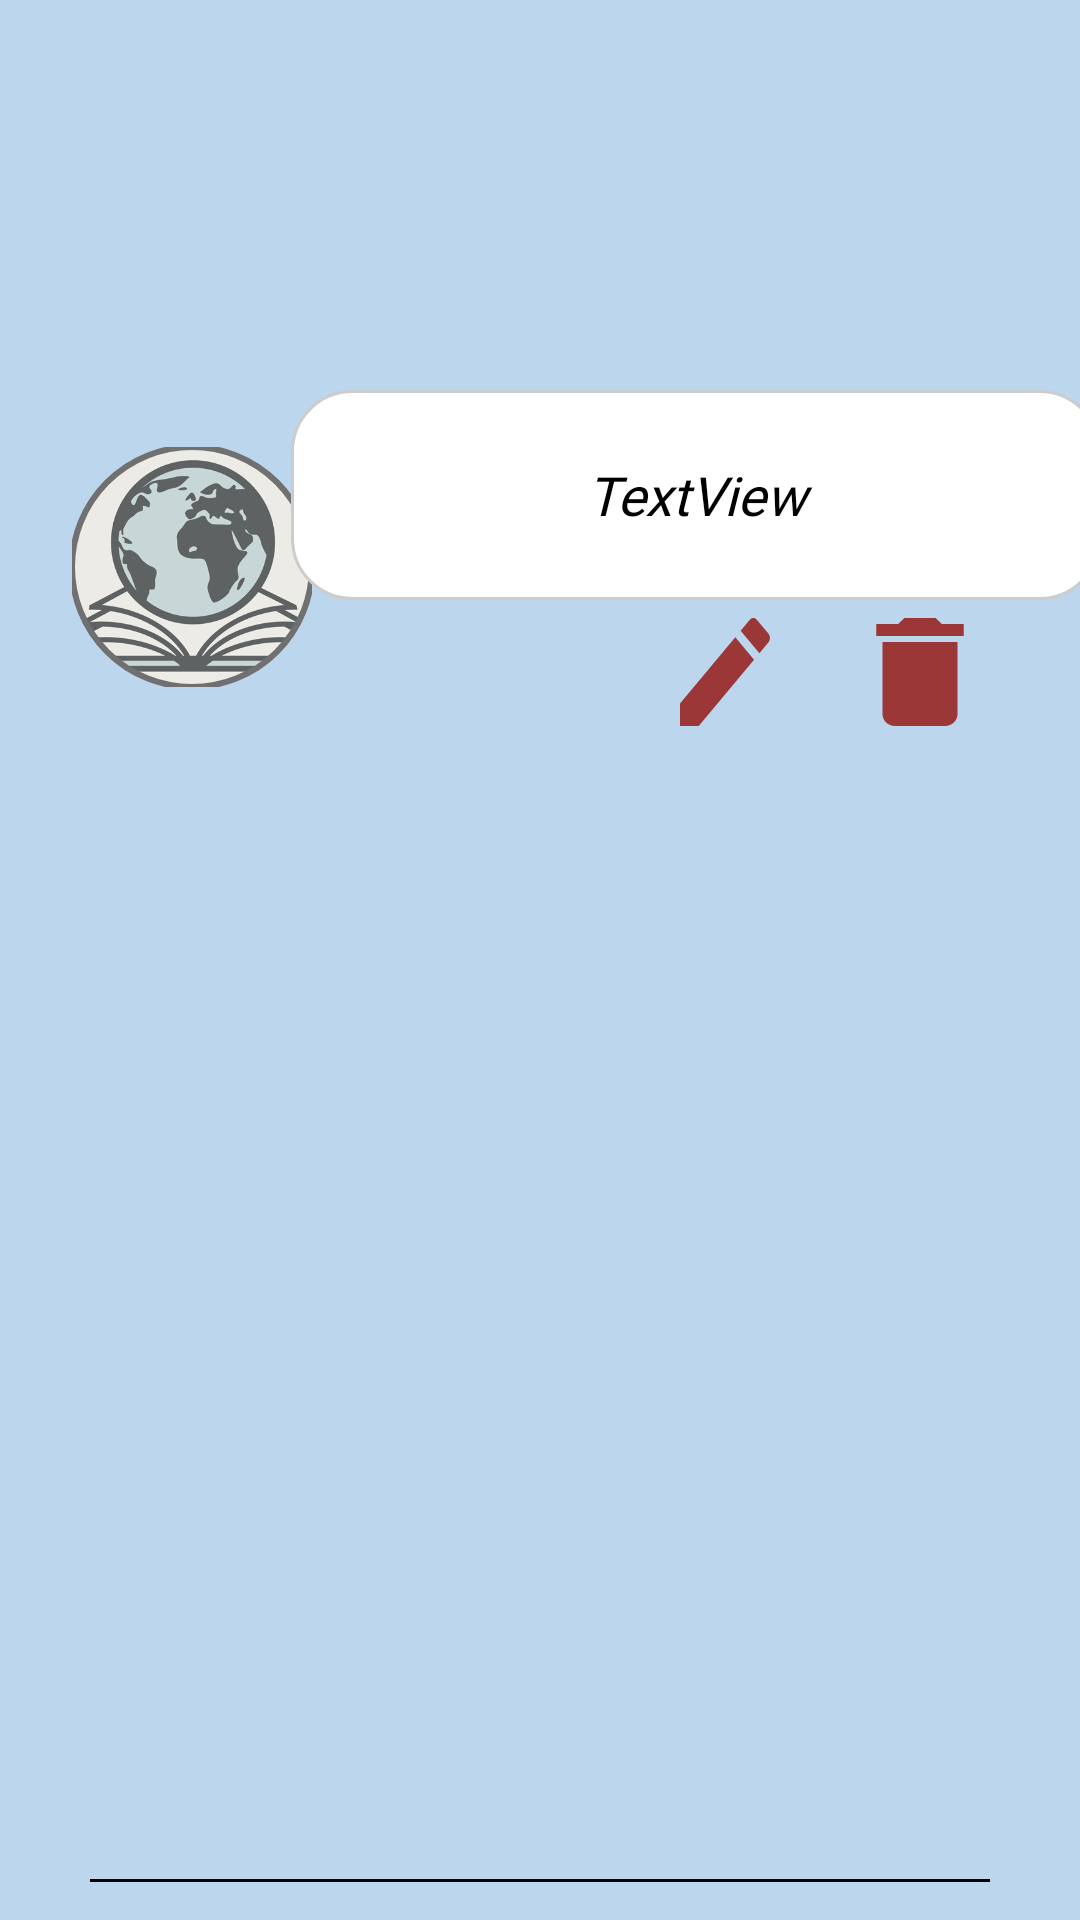

Screen size 1080px×1920px. Icon name, then its box in pixels as (x1,y1,x2,y2):
delete: (876,618,964,726)
edit: (680,618,770,726)
